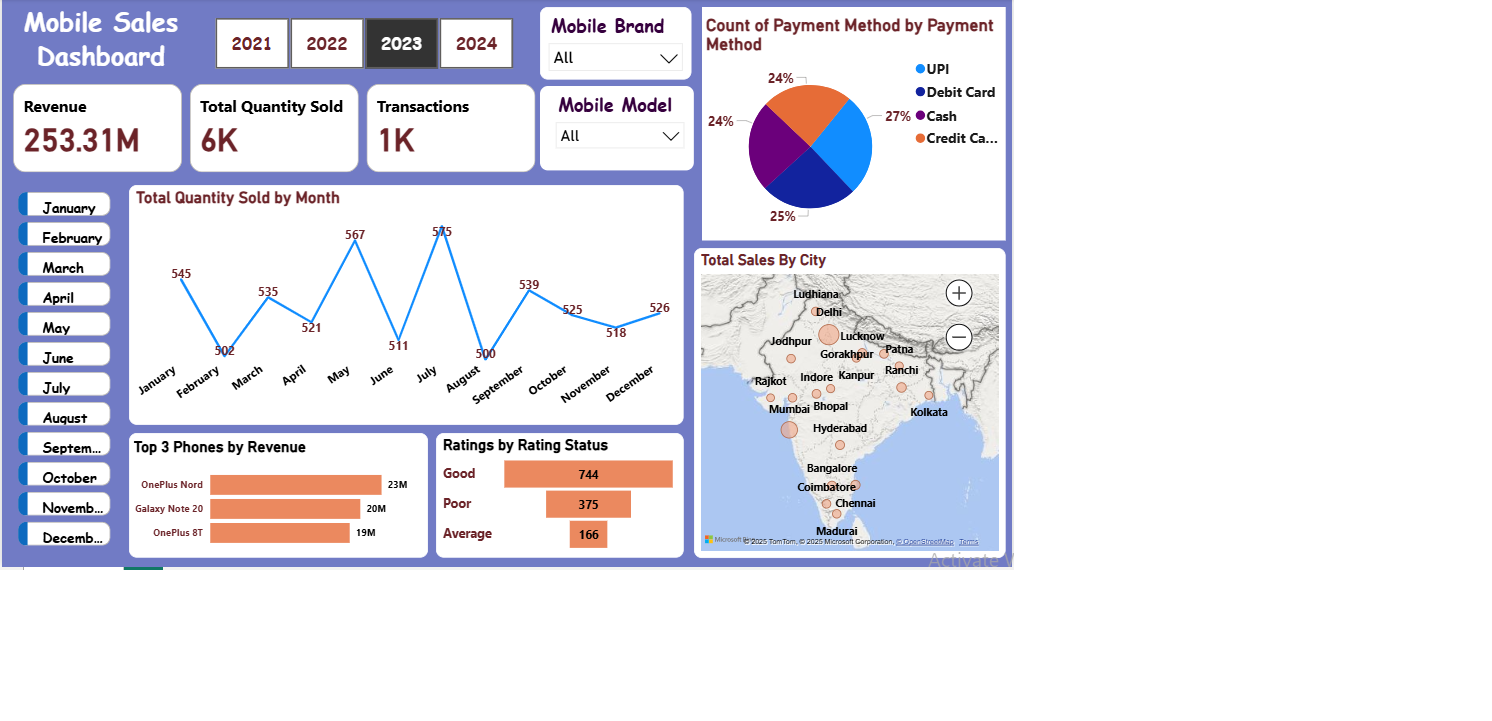

The page's visual inventory and layout, read from the dashboard file:
{"tool":"powerbi","page":{"name":"Dashboard","canvas":[1280,720],"ordinal":0},"visuals":[{"type":"textbox","box":[9.7,0,230.7,109.8],"z":0},{"type":"advancedSlicerVisual","fields":{"Values":["Date_Calendar.Date.Variation.Date Hierarchy.Month"]},"box":[11,236.3,135,472.6],"z":1000},{"type":"cardVisual","fields":{"Data":["Sales_Data.Revenue","Sales_Data.Total_Quantity","Sales_Data.Transactions"]},"box":[9.7,102.9,672.7,122.3],"z":2000},{"type":"pieChart","fields":{"Category":["Sales_Data.Payment Method"],"Y":["CountNonNull(Sales_Data.Payment Method)"]},"box":[886.8,9.7,385,296.1],"z":3000},{"type":"slicer","fields":{"Values":["Sales_Data.Mobile Model"]},"box":[682.5,109.8,194.6,107],"z":4000},{"type":"slicer","fields":{"Values":["Sales_Data.Brand"]},"box":[682.5,9.7,191.8,91.7],"z":5000},{"type":"map","title":"Total Sales By City","fields":{"Category":["Sales_Data.City"],"Size":["CountNonNull(Sales_Data.City)"]},"box":[877.1,315.5,394.7,393.4],"z":6000},{"type":"lineChart","fields":{"Category":["Date_Calendar.Date.Variation.Date Hierarchy.Month"],"Y":["Sales_Data.Total Quantity Sold"]},"box":[161.2,236.3,703.3,304.4],"z":7000},{"type":"funnel","title":" Ratings by Rating Status","fields":{"Category":["Sales_Data.Rating Status"],"Y":["CountNonNull(Sales_Data.Customer Ratings)"]},"box":[550.4,550.4,314.1,158.5],"z":8000},{"type":"clusteredBarChart","title":"Top 3 Phones by Revenue","fields":{"Y":["Sales_Data.Revenue"],"Category":["Sales_Data.Mobile Model"]},"box":[161.2,550.4,379.5,158.5],"z":9000},{"type":"slicer","fields":{"Values":["Date_Calendar.Date.Variation.Date Hierarchy.Year"]},"box":[250.2,9.7,417,92],"z":10000}]}

Visuals, with their boxes on the page's 1280x720 design canvas (x1, y1, x2, y2). These are canvas units, not pixel positions in the 1492x721 screenshot, which may show the page scaled, cropped or inside an application window:
textbox: left=10, top=0, right=240, bottom=110
advancedSlicerVisual - Date_Calendar.Date.Variation.Date Hierarchy.Month: left=11, top=236, right=146, bottom=709
cardVisual - Sales_Data.Revenue x Sales_Data.Total_Quantity: left=10, top=103, right=682, bottom=225
pieChart - Sales_Data.Payment Method x CountNonNull(Sales_Data.Payment Method): left=887, top=10, right=1272, bottom=306
slicer - Sales_Data.Mobile Model: left=682, top=110, right=877, bottom=217
slicer - Sales_Data.Brand: left=682, top=10, right=874, bottom=101
"Total Sales By City" map: left=877, top=316, right=1272, bottom=709
lineChart - Date_Calendar.Date.Variation.Date Hierarchy.Month x Sales_Data.Total Quantity Sold: left=161, top=236, right=864, bottom=541
" Ratings by Rating Status" funnel: left=550, top=550, right=864, bottom=709
"Top 3 Phones by Revenue" clusteredBarChart: left=161, top=550, right=541, bottom=709
slicer - Date_Calendar.Date.Variation.Date Hierarchy.Year: left=250, top=10, right=667, bottom=102
